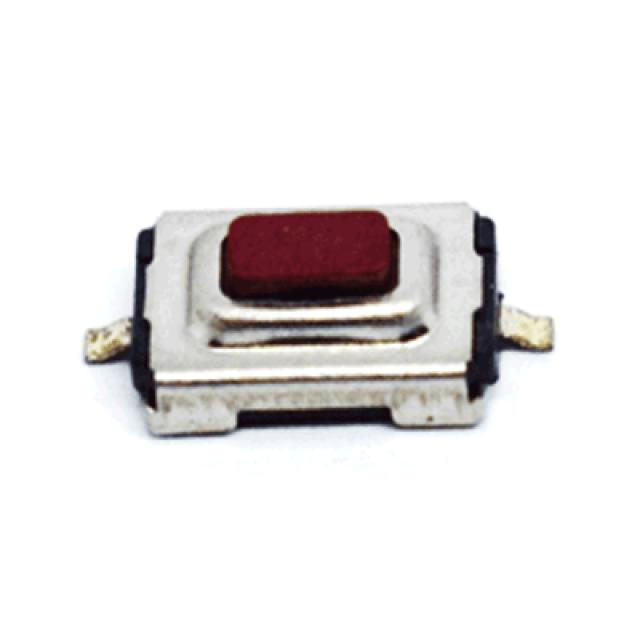Push button: (83, 200, 554, 440)
